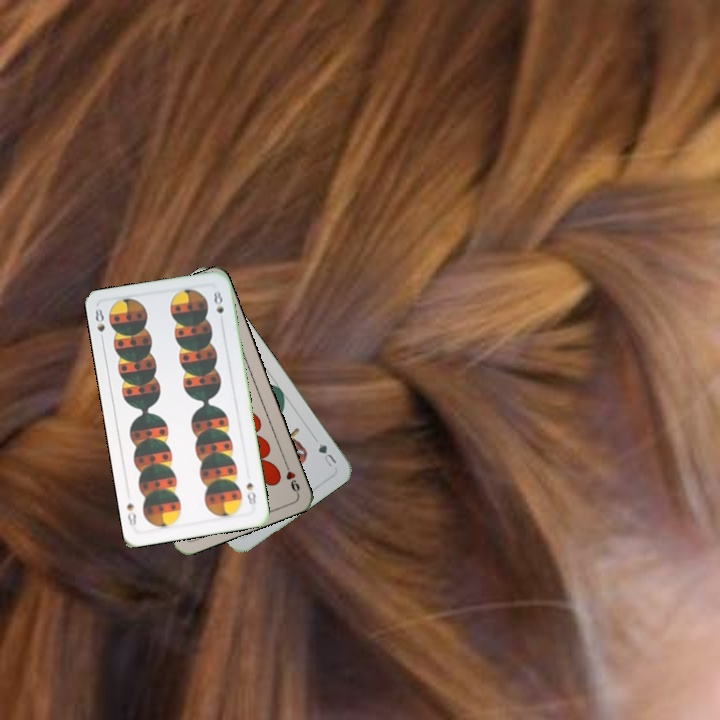GU: (314, 439, 339, 471)
H9: (280, 457, 302, 496)
S8: (91, 304, 107, 345), (242, 478, 259, 507)
